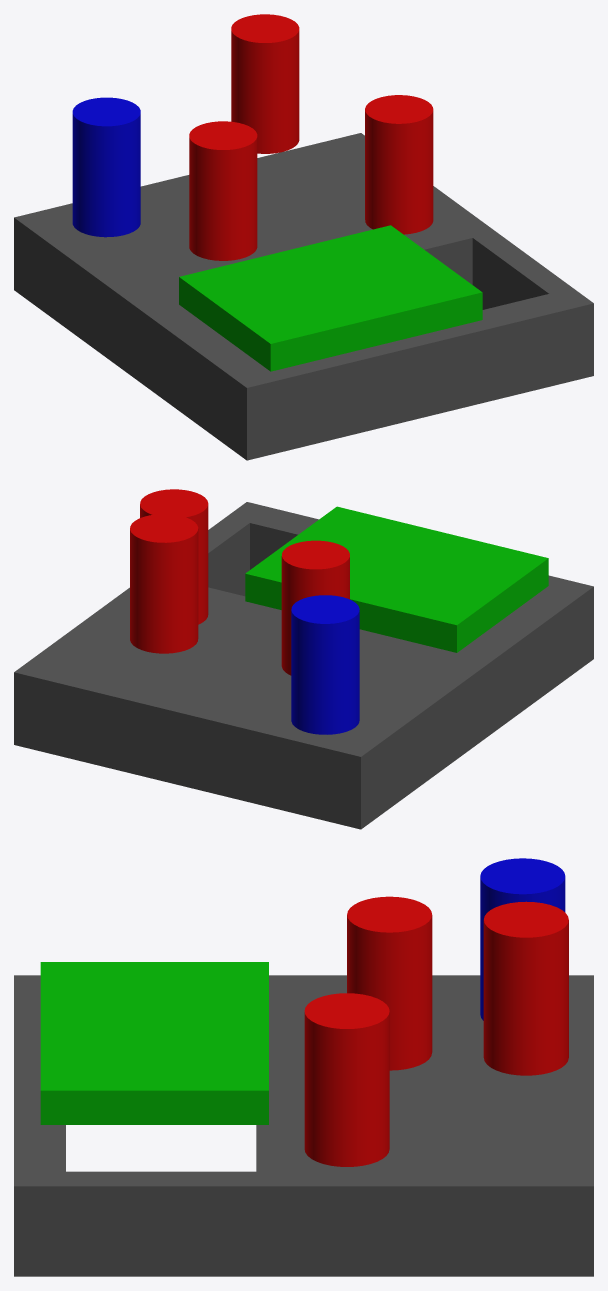
Rendered from RSUVtest3.fbx.
The picture shows the model from 3 angles, top to bottom: view 1: azimuth 30°, elevation 25°; view 2: azimuth 150°, elevation 25°; view 3: azimuth 270°, elevation 25°; orthographic projection. The views are drawn at different scales.
Visible parts, largest first — view 1: obj1; view 2: obj1; view 3: obj1.
Part boxes in pixels (<box>): obj1: <box>14,14,593,460</box>; obj1: <box>14,489,593,829</box>; obj1: <box>14,858,593,1276</box>.
Size of the model in its own units: 26.22 by 16.36 by 30.48.
